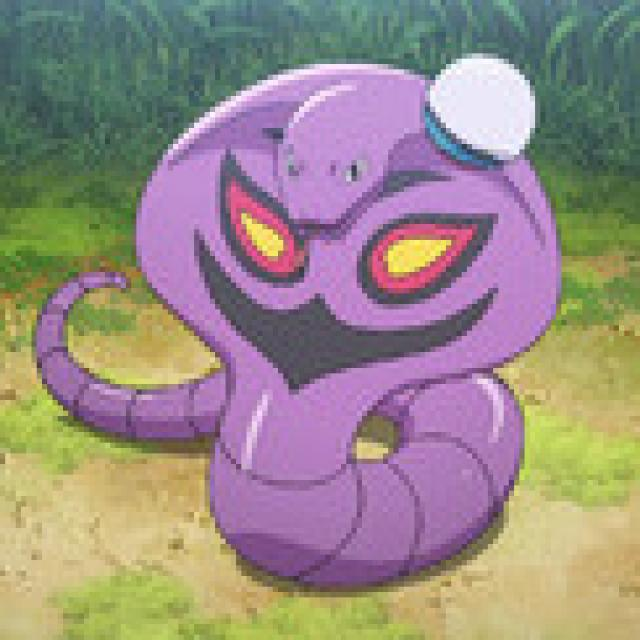Arbok: (144, 60, 530, 572)
